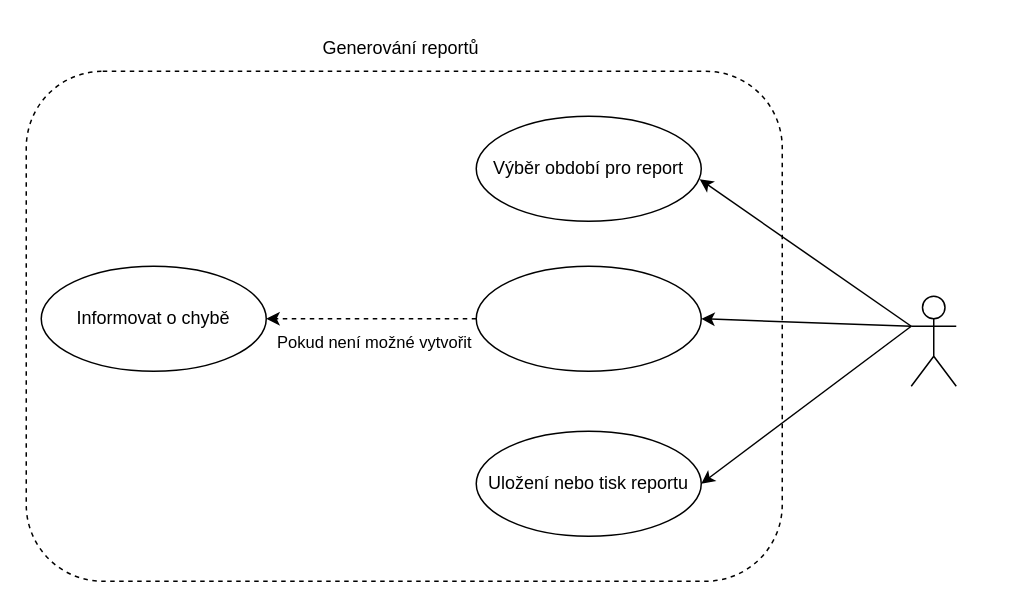
Image size: 1013x608. Some labels were removed from this diagram. Each missing label, with the box of its shape:
Administrátor: (910, 295, 956, 386)
Generování reportu: (475, 265, 701, 371)
